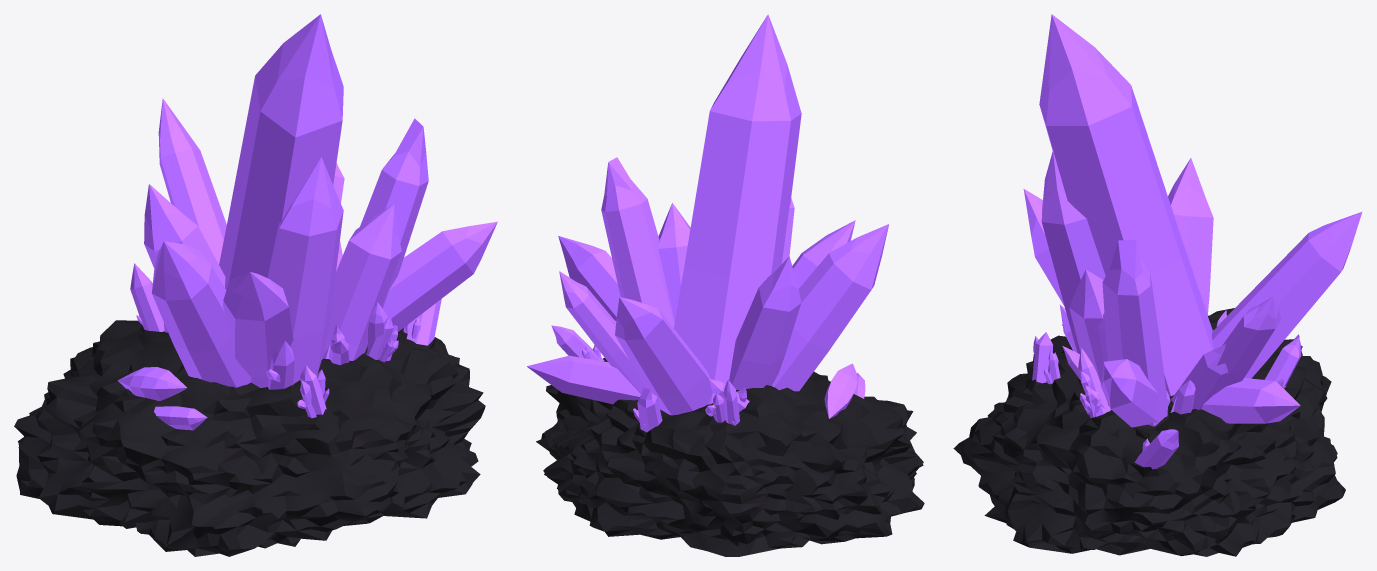
The model's file is Crystals_02_web.glb.
3 views of the same model, side by side, from view 1: azimuth 30°, elevation 25°; view 2: azimuth 150°, elevation 25°; view 3: azimuth 270°, elevation 25° (orthographic). The views are drawn at different scales.
Parts seen in each view (by area): view 1: Crystals_02_Crystals, Crystals_02_Rock; view 2: Crystals_02_Crystals, Crystals_02_Rock; view 3: Crystals_02_Crystals, Crystals_02_Rock.
Boxes of the visible parts, box(x1,y1,x2,y2) form: Crystals_02_Crystals: box(117, 14, 497, 430); Crystals_02_Rock: box(14, 320, 485, 556); Crystals_02_Crystals: box(527, 14, 888, 432); Crystals_02_Rock: box(536, 358, 924, 556); Crystals_02_Crystals: box(1023, 14, 1362, 469); Crystals_02_Rock: box(953, 308, 1345, 556).
Bounding box in the file's own units: 3.76 × 4.08 × 3.22.
